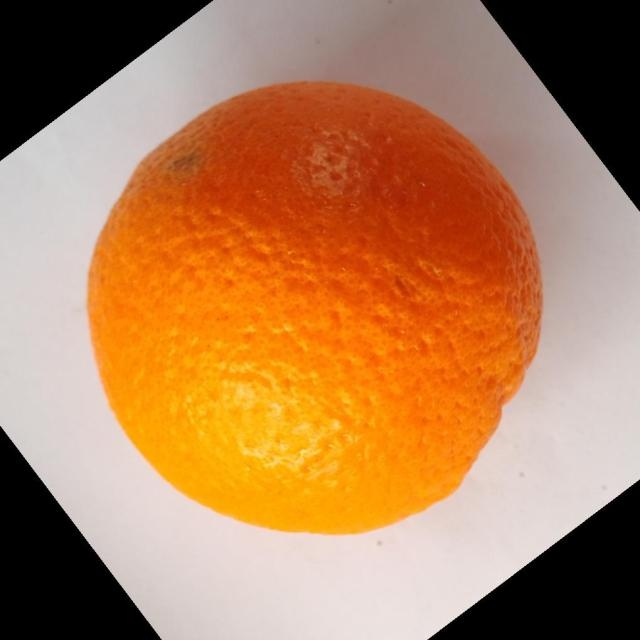agrume: (85, 78, 544, 536)
